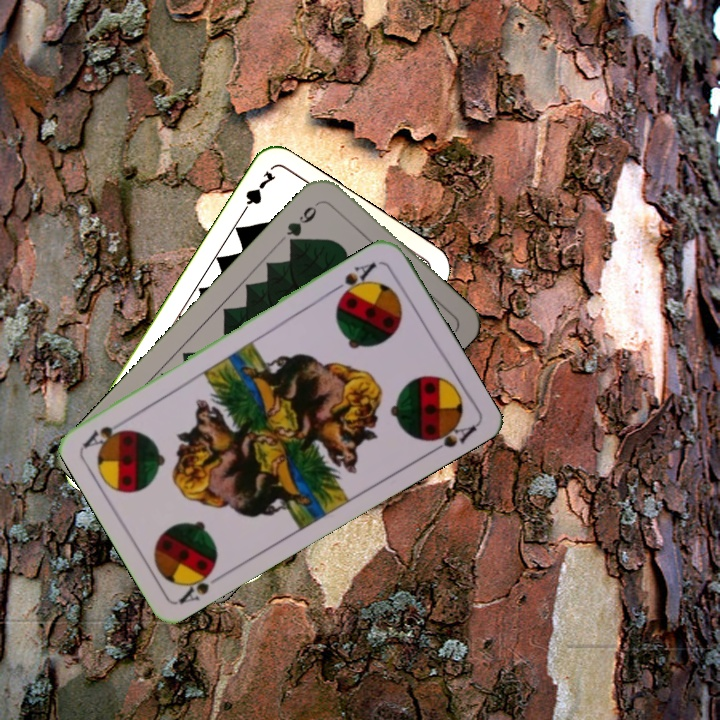G7: (236, 166, 279, 219)
G9: (282, 197, 324, 249)
SA: (174, 560, 228, 607), (328, 258, 379, 302)
